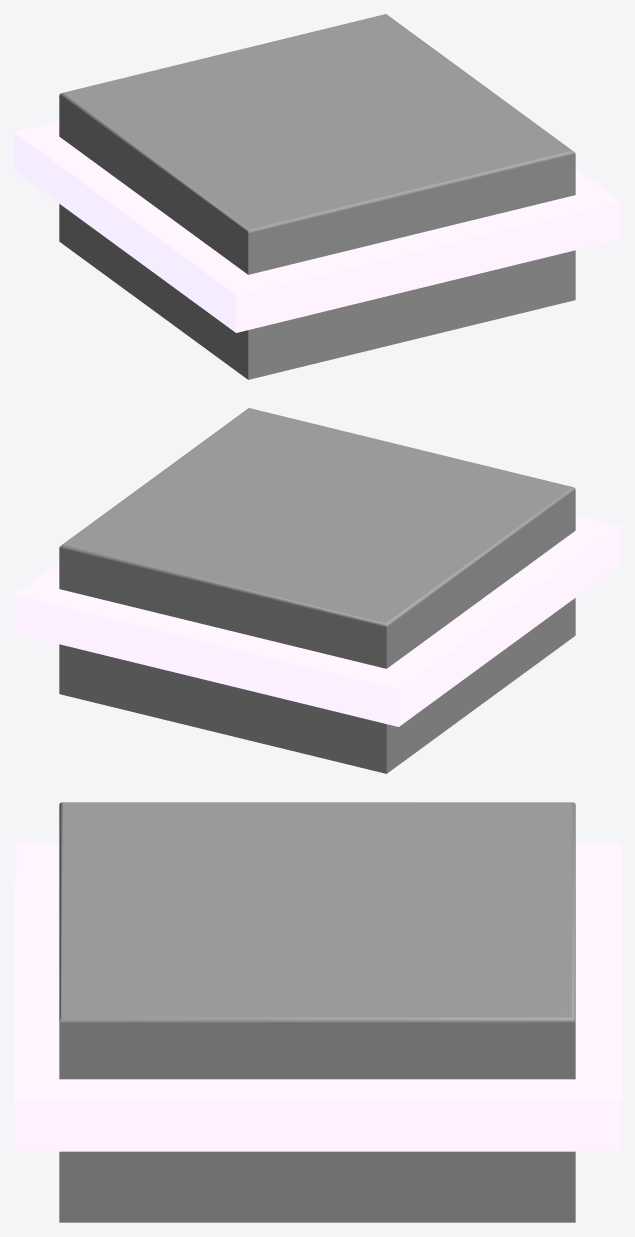
The model's file is BM_Platform_Base.fbx.
The picture shows the model from 3 angles, top to bottom: view 1: azimuth 30°, elevation 25°; view 2: azimuth 150°, elevation 25°; view 3: azimuth 270°, elevation 25°; orthographic projection. The views are drawn at different scales.
Visible parts, largest first — view 1: BM_Platform_Base_001, BM_Platform_Emissive_001; view 2: BM_Platform_Base_001, BM_Platform_Emissive_001; view 3: BM_Platform_Base_001, BM_Platform_Emissive_001.
Part boxes in pixels (<box>): BM_Platform_Base_001: <box>59,14,575,379</box>; BM_Platform_Emissive_001: <box>14,121,620,332</box>; BM_Platform_Base_001: <box>59,408,575,773</box>; BM_Platform_Emissive_001: <box>14,515,620,726</box>; BM_Platform_Base_001: <box>59,802,575,1222</box>; BM_Platform_Emissive_001: <box>14,843,620,1151</box>.
Size of the model in its own units: 365 by 135 by 365.
